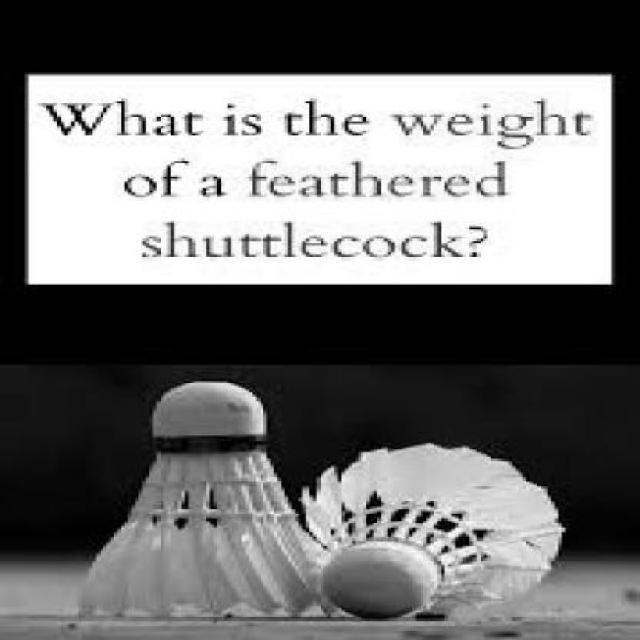Shuttlecock: (77, 380, 318, 618), (303, 443, 571, 620)
